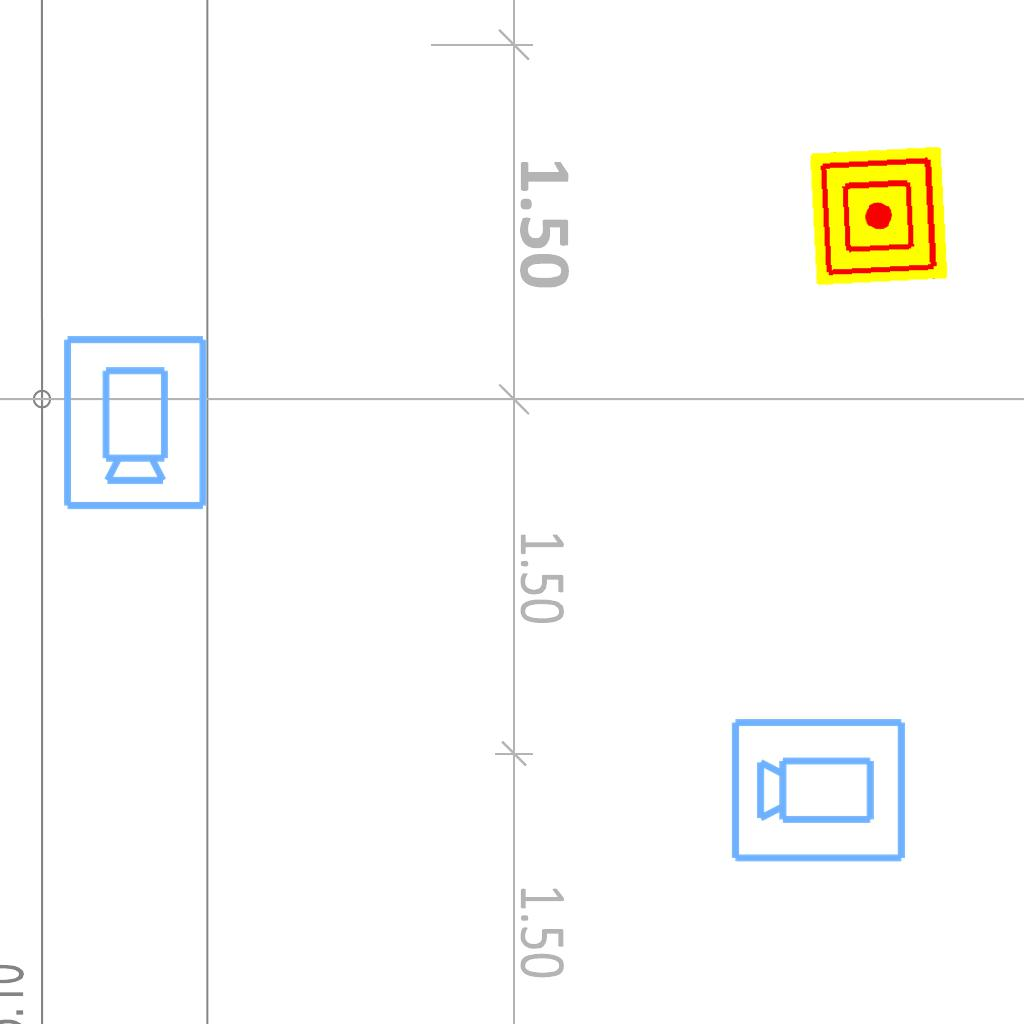KFO_Kamera_mit_Festobjektiv: (728, 712, 910, 866), (57, 331, 211, 513)
NAM-Nichtautomatischer_Melder: (809, 146, 949, 286)
